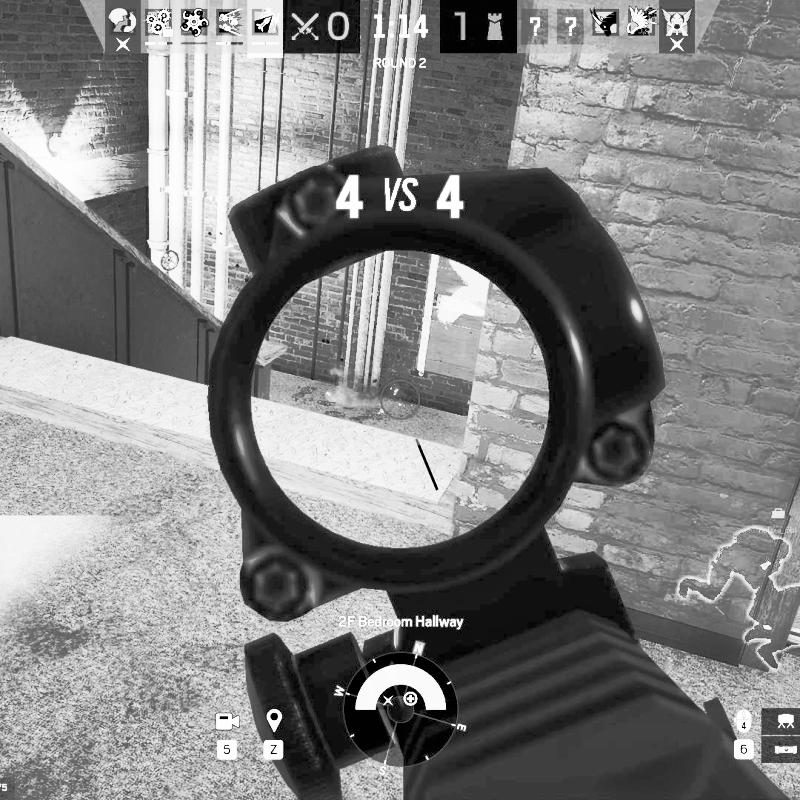Friend_label: (757, 507, 798, 535)
